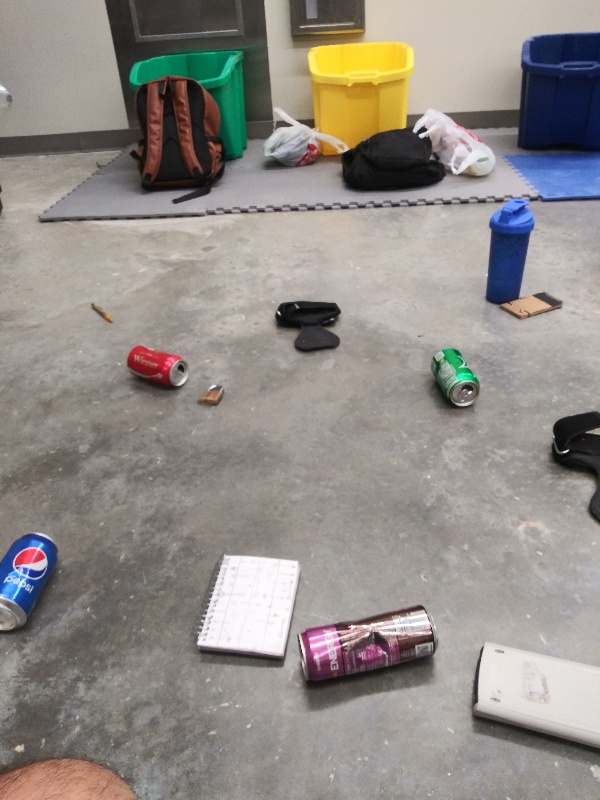can: (295, 604, 441, 692), (1, 528, 60, 638), (426, 347, 483, 410), (123, 341, 192, 392)
